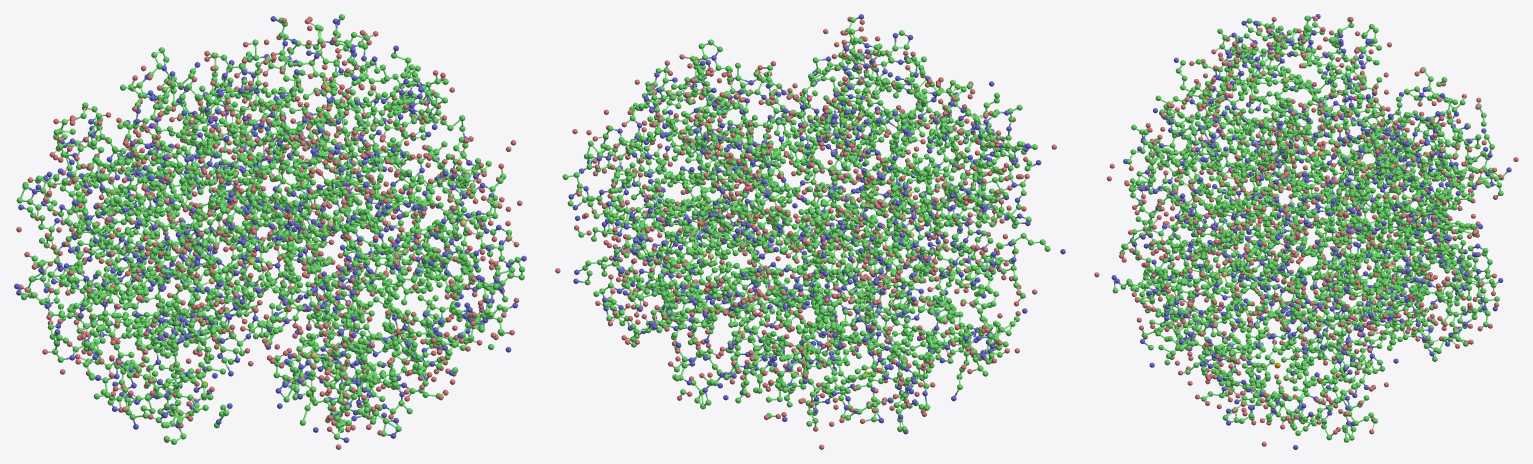
File: 4hhb__ball_and_stick__default.glb
3 views of the same model, side by side, from view 1: azimuth 30°, elevation 25°; view 2: azimuth 150°, elevation 25°; view 3: azimuth 270°, elevation 25° (orthographic). The views are drawn at different scales.
Parts seen in each view (by area): view 1: Renderer Node; view 2: Renderer Node; view 3: Renderer Node.
Part boxes in pixels (left/top/right/bottom): Renderer Node: left=14, top=14, right=526, bottom=449; Renderer Node: left=555, top=14, right=1065, bottom=449; Renderer Node: left=1094, top=14, right=1518, bottom=449.
Size of the model in its own units: 71.05 by 57.91 by 61.55.
